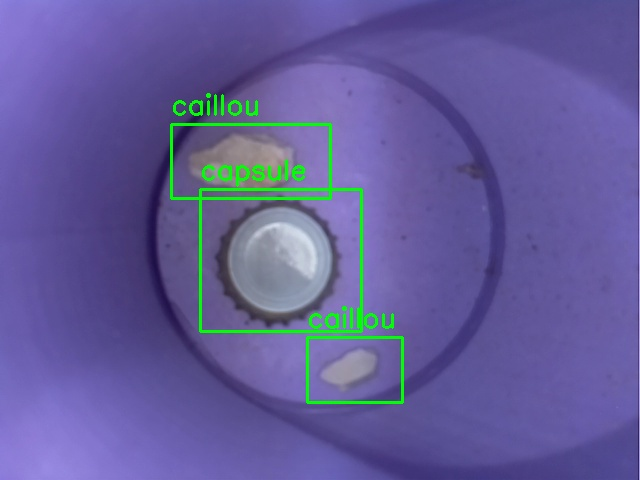caillou: (171, 124, 330, 198), (307, 337, 402, 402)
capsule: (200, 189, 361, 331)
